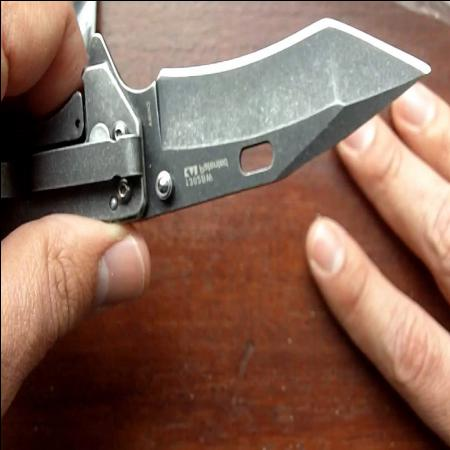long weapon: (1, 3, 440, 251)
